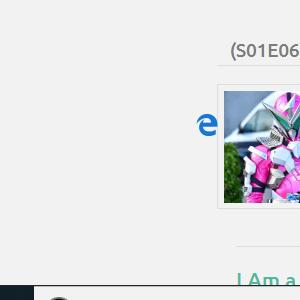edge: (196, 114, 218, 136)
